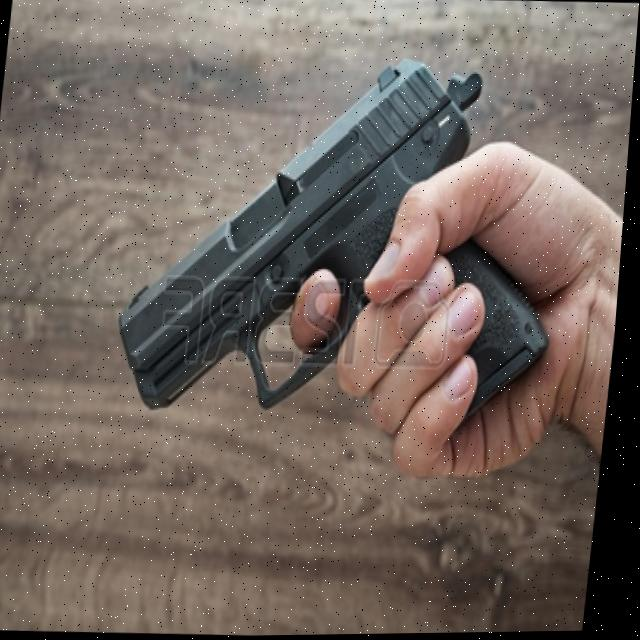pistol: (112, 42, 488, 422)
